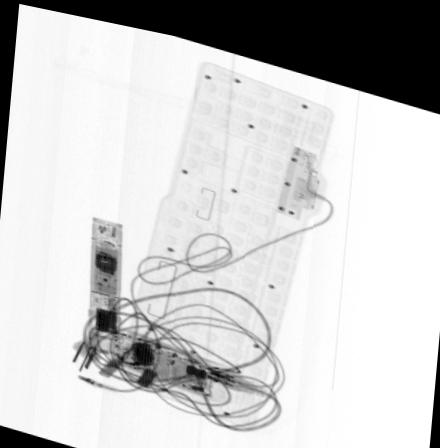Baton: (89, 211, 123, 337)
